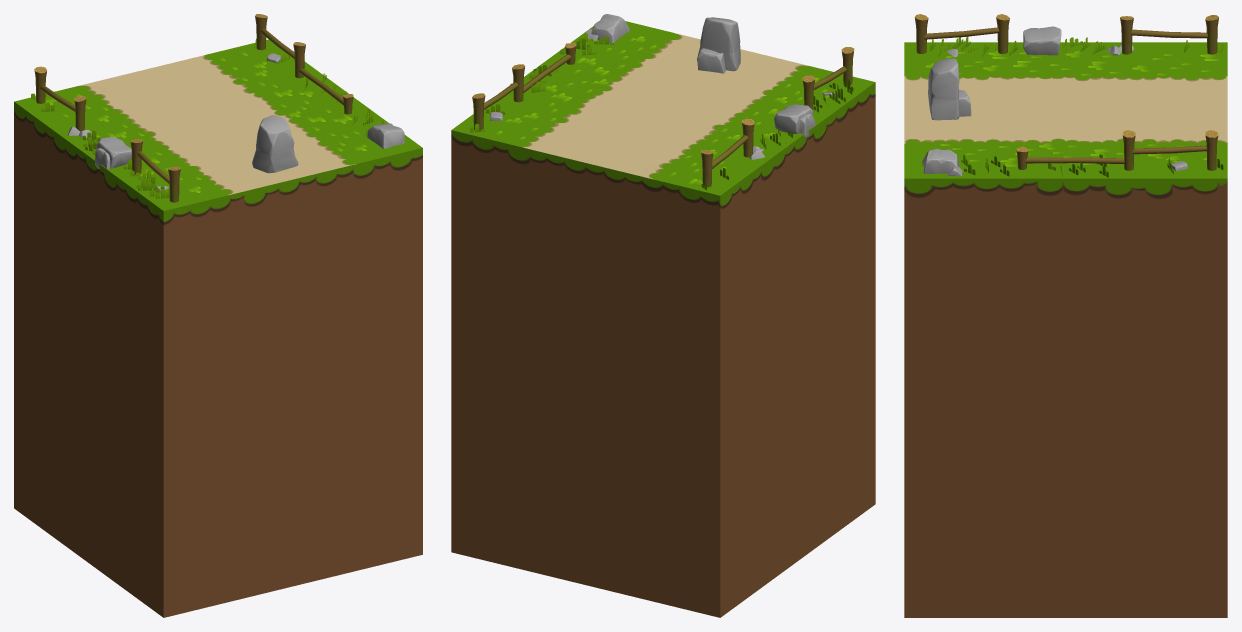
Rendered from Plataforma Pierda Centro.fbx.
3 renders of one model, left to right at view 1: azimuth 30°, elevation 25°; view 2: azimuth 150°, elevation 25°; view 3: azimuth 270°, elevation 25°, orthographic. The views are drawn at different scales.
Visible parts, largest first — view 1: Plataforma 1.003, Cube.377, Cube.375, Cube.285; view 2: Plataforma 1.003, Cube.377, Cube.285, Cube.375, Cube.378; view 3: Plataforma 1.003, Cube.377, Cube.285, Cube.375, Cylinder.106, Cylinder.108, Cylinder.111, Cylinder.107, Cylinder.101, Cylinder.104, Cylinder.109, Cylinder.110.
Boxes of the visible parts, x1,y1,x2,y2 form: Plataforma 1.003: [14, 39, 422, 617]; Cube.377: [252, 115, 298, 173]; Cube.375: [367, 123, 404, 149]; Cube.285: [96, 136, 131, 168]; Plataforma 1.003: [451, 21, 875, 617]; Cube.377: [697, 17, 740, 71]; Cube.285: [774, 104, 813, 133]; Cube.375: [591, 14, 629, 43]; Cube.378: [697, 48, 725, 73]; Plataforma 1.003: [904, 42, 1227, 617]; Cube.377: [928, 58, 959, 120]; Cube.285: [1023, 26, 1061, 55]; Cube.375: [922, 148, 958, 173]; Cylinder.106: [1025, 157, 1124, 163]; Cylinder.108: [1131, 29, 1207, 38]; Cylinder.111: [924, 27, 999, 39]; Cylinder.107: [1132, 145, 1207, 154]; Cylinder.101: [1205, 15, 1218, 54]; Cylinder.104: [996, 14, 1009, 53]; Cylinder.109: [1120, 16, 1133, 54]; Cylinder.110: [914, 14, 928, 53].
Size of the model in its own units: 1012 by 1667 by 1000.
